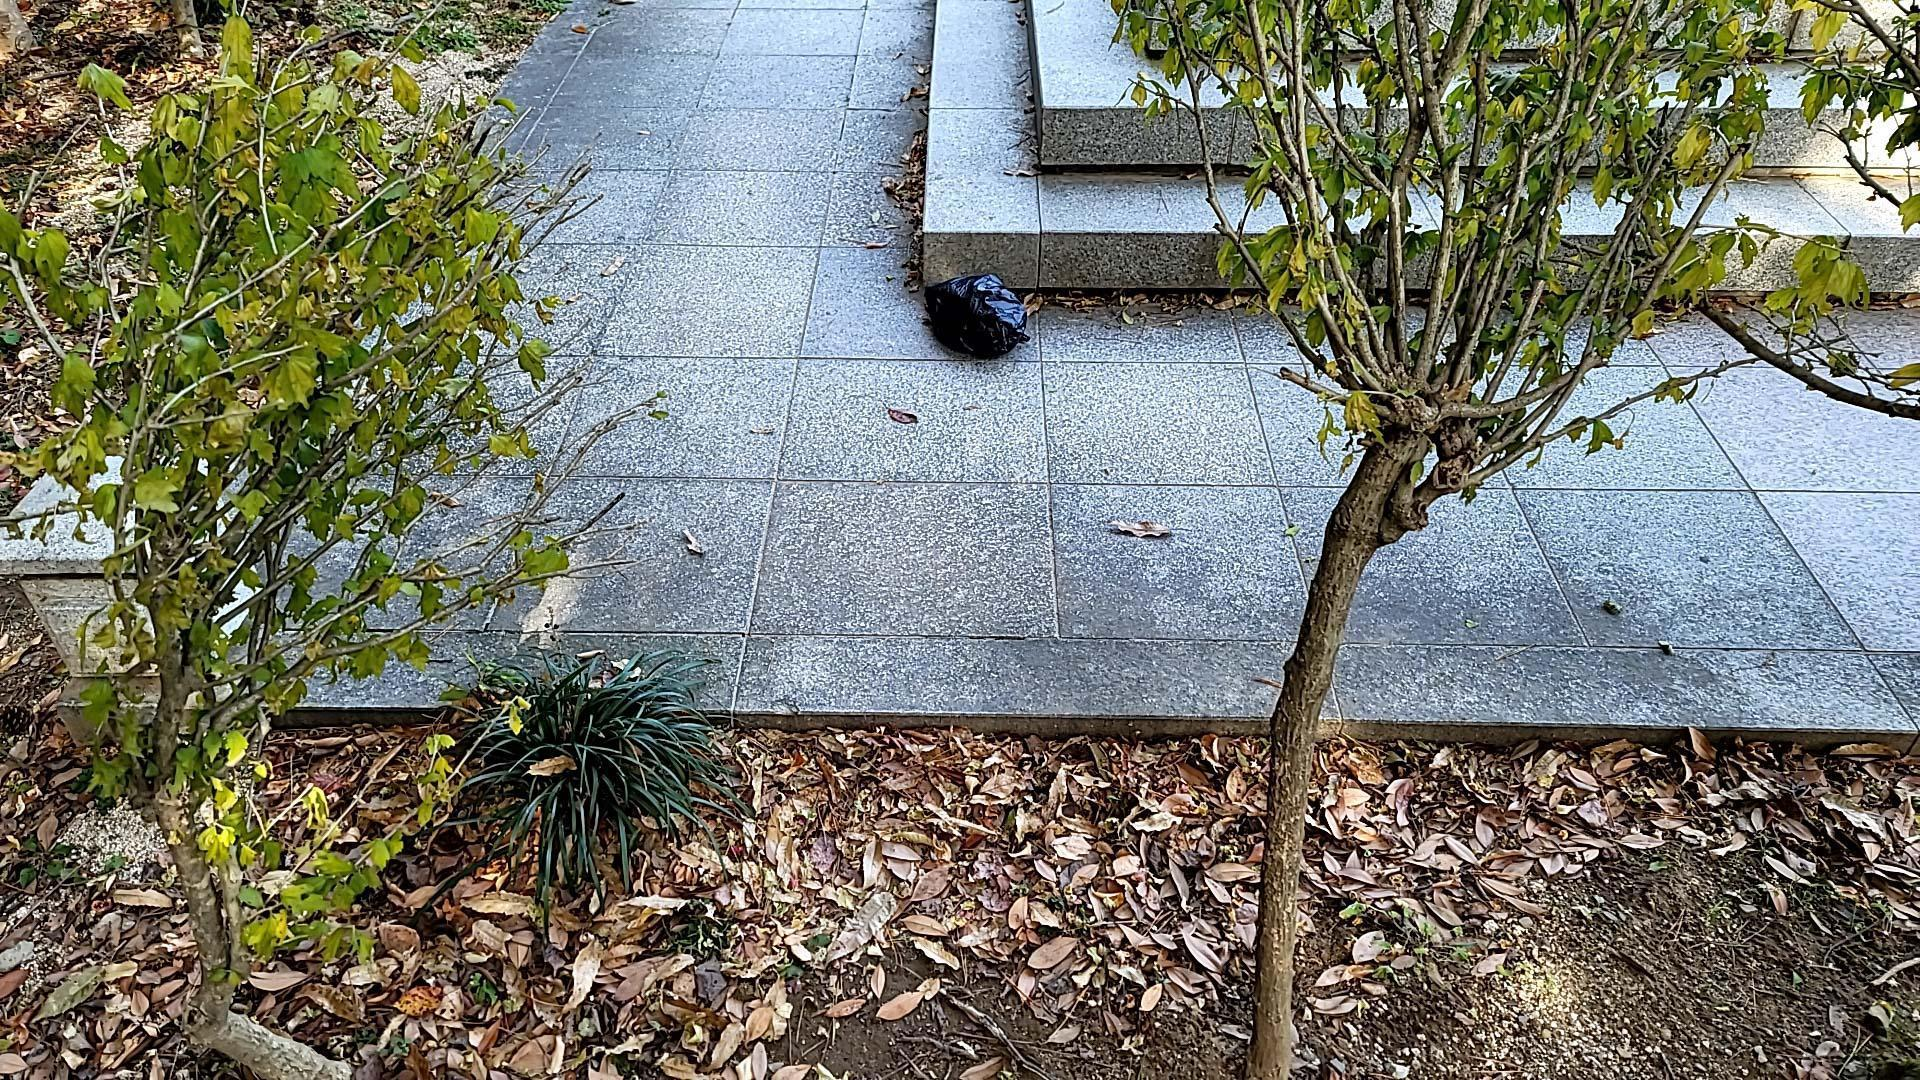black_bag: (919, 264, 1035, 363)
